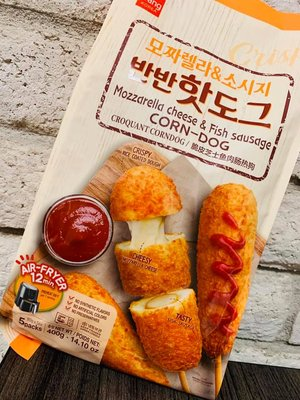sushi: (42, 194, 114, 267)
